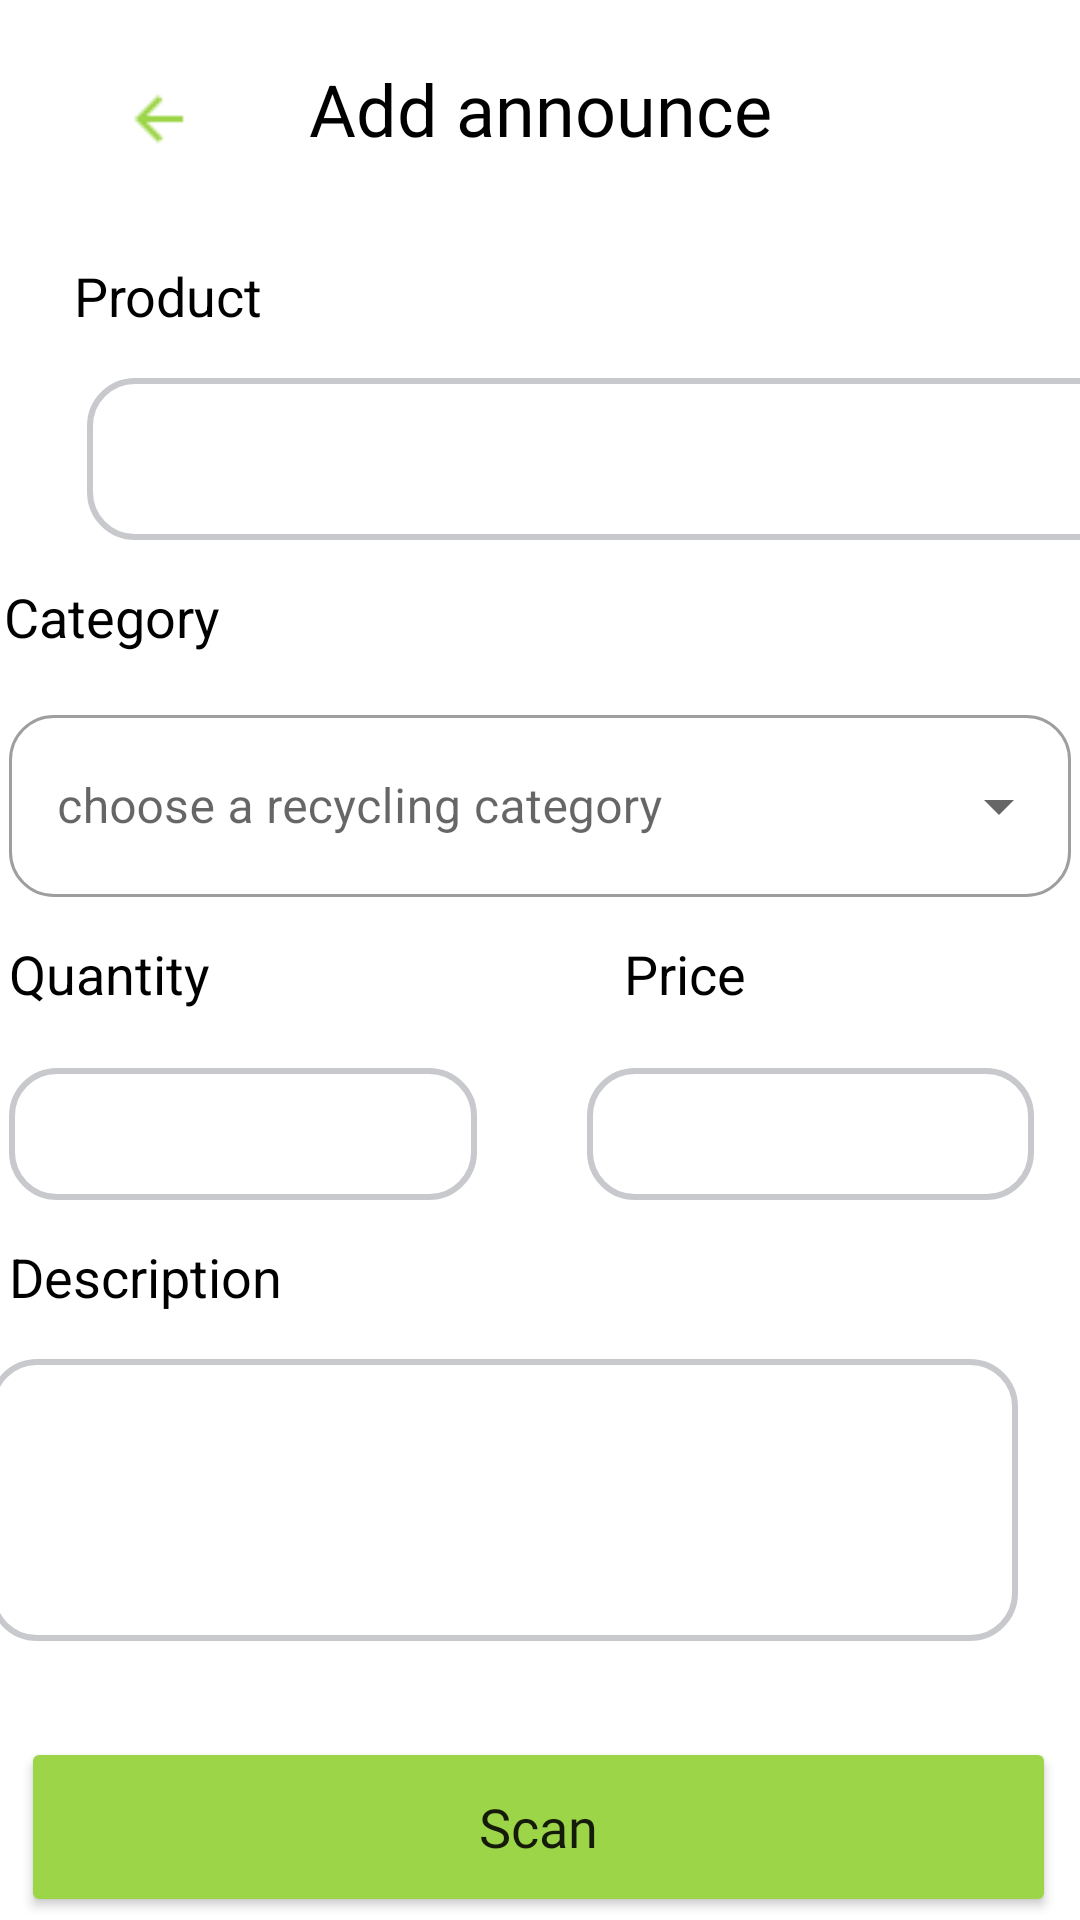

Where icons sit on this 1080x1920 app screen, as (x1, y1, x2, y2):
back: (134, 94, 184, 144)
